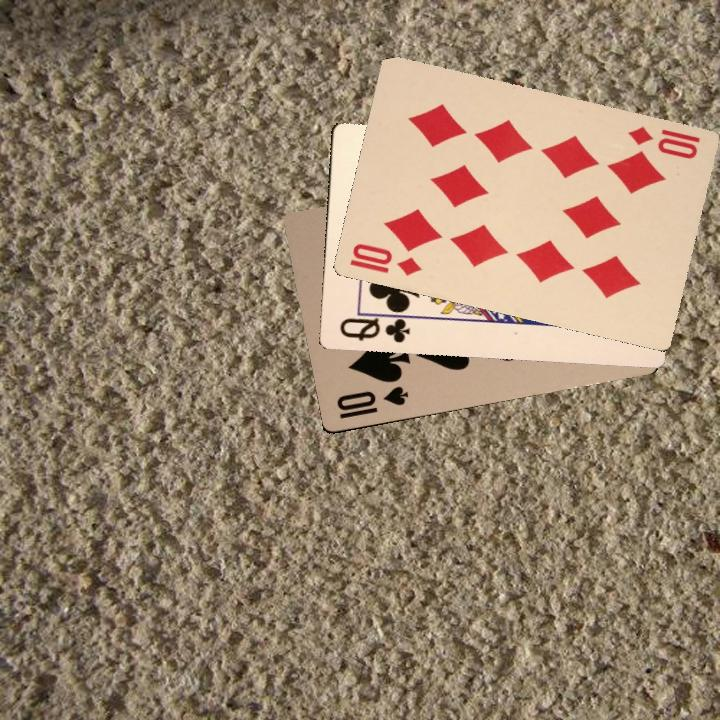10d: (346, 239, 424, 279), (624, 122, 702, 162)
10s: (332, 382, 411, 421)
Qc: (336, 306, 414, 346)
